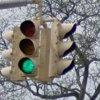traffic lights: (16, 16, 42, 80)
